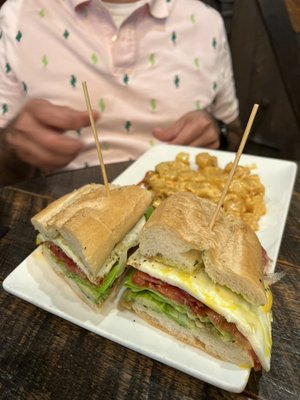soup: (118, 186, 274, 376)
